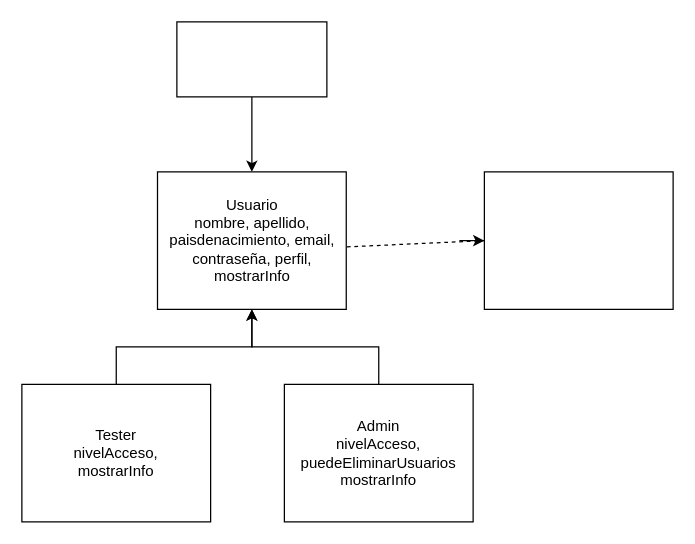
Some shapes in this 695 by 544 pixel diagram are drawn without their labels. The centre of each missing label's shape, as x and y in pixels:
Mostrable (interface): point 578,240
Sistema de usuarios: point 251,59
